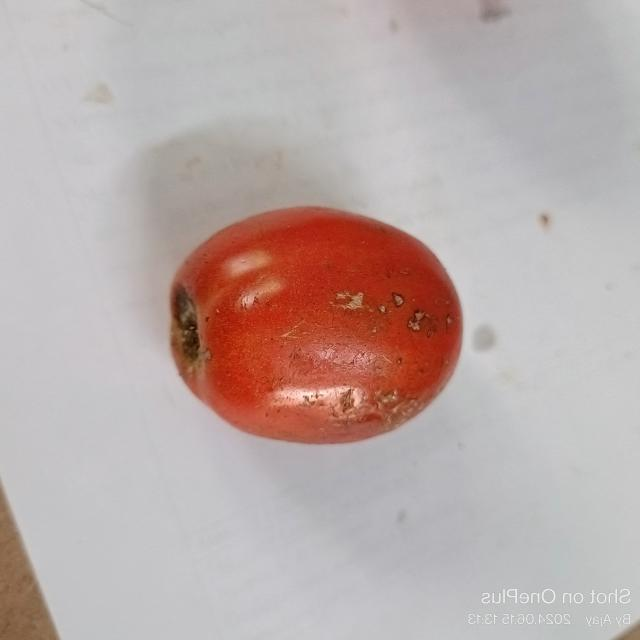Bacterial_Spot: (324, 283, 461, 331), (328, 376, 420, 428)
